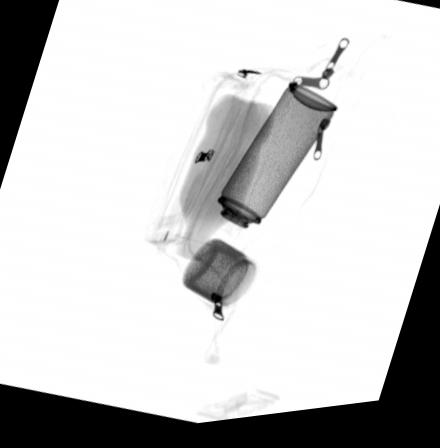Sprayer: (196, 88, 339, 265)
